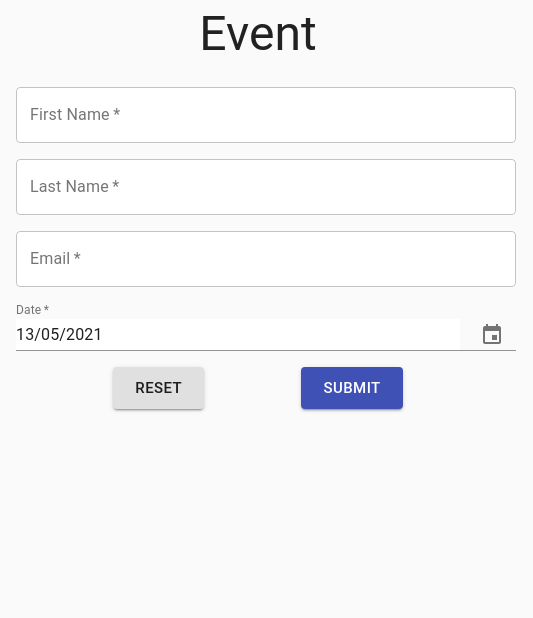
it: App and SnackBar › submits form and the success SnackBar is displayed
The image size is (533, 618).
Note: fill out all the Text Fields
Type "qwe" into the field labelled "First Name" at point(266, 115), box [16,87,516,143]
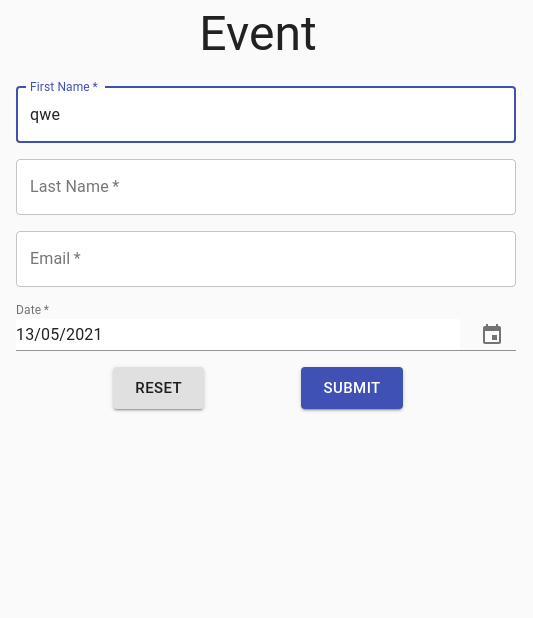
Type "asd" into the field labelled "Last Name" at point(266, 187), box [16,159,516,215]
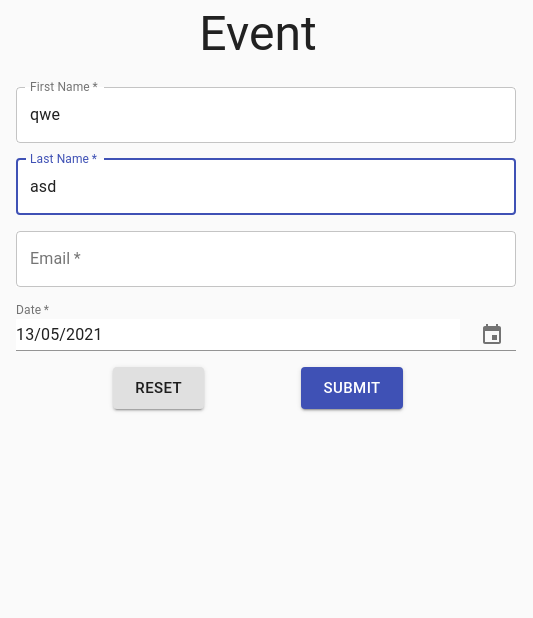
Type "qwe@asd.zxc" into the field labelled "Email" at point(266, 259), box [16,231,516,287]
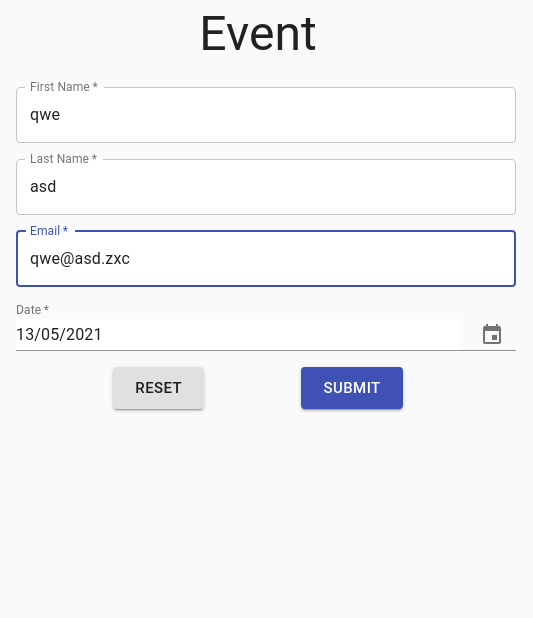
Note: click the Submit button
Click the button "Submit" at point(352, 388), box [302,367,403,409]
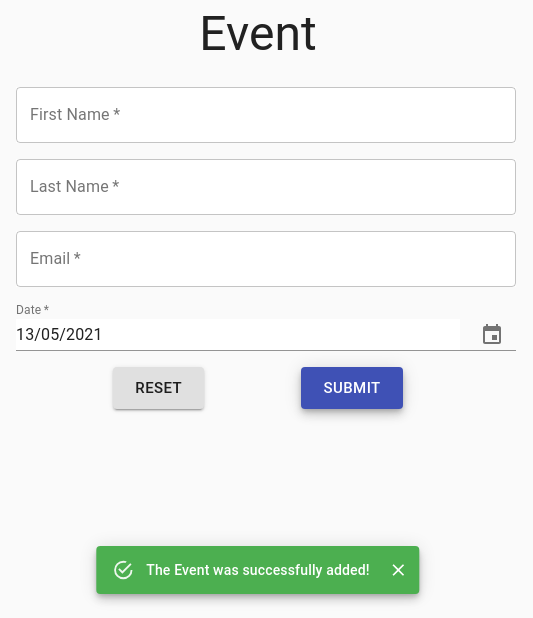
Now the message "The Event was successfully added!" is shown, box [96,546,420,594]
Now the field labelled "First Name" is empty, box [16,87,516,143]
Now the field labelled "Last Name" is empty, box [16,159,516,215]
